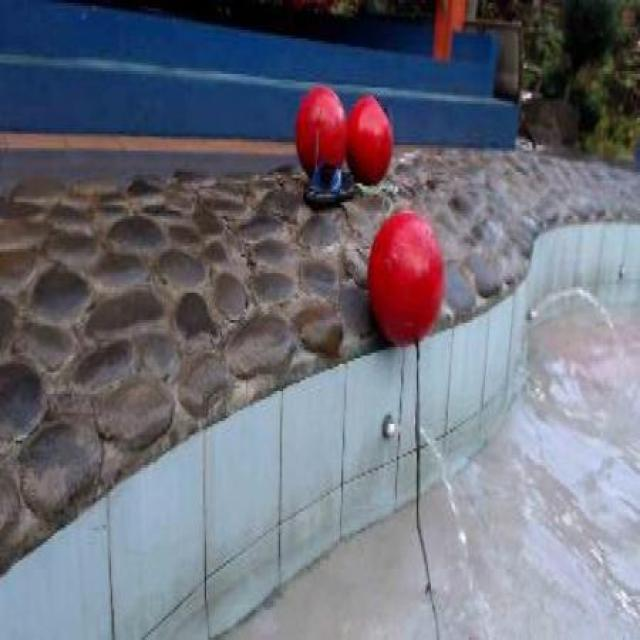buoy: (367, 212, 442, 346), (295, 83, 345, 180), (346, 94, 392, 178)
